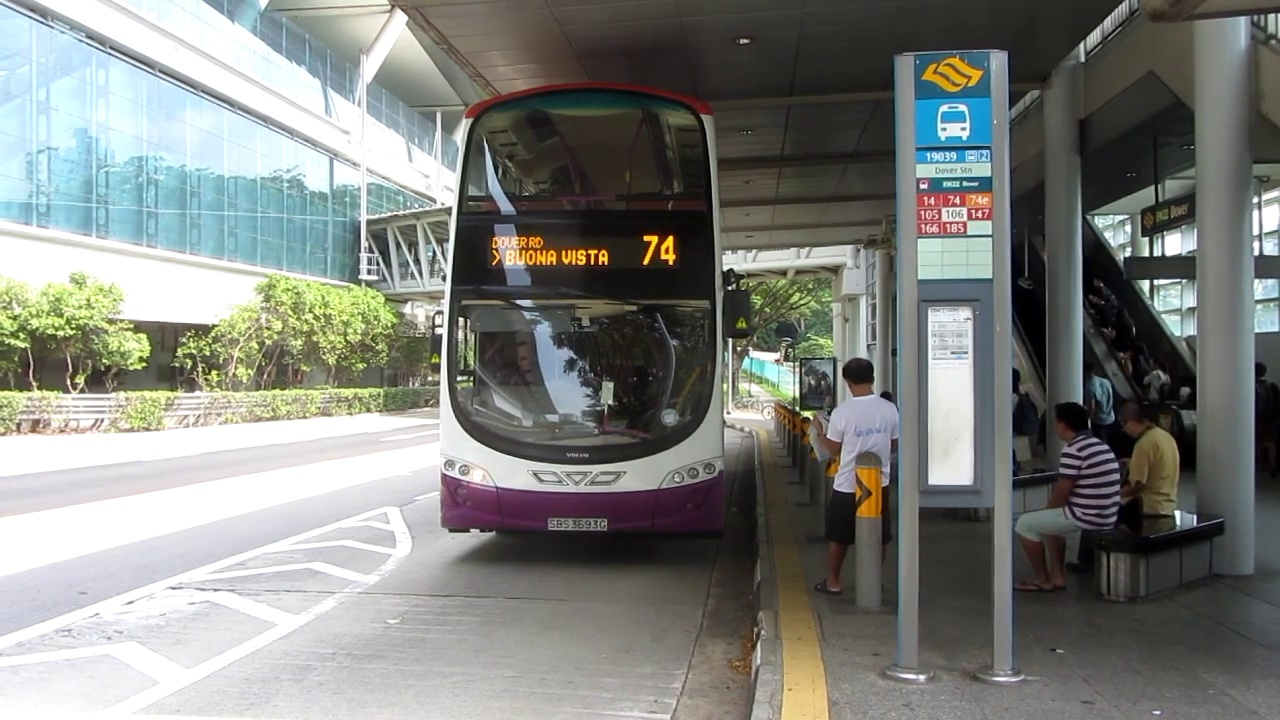bus panel: (485, 231, 683, 271)
